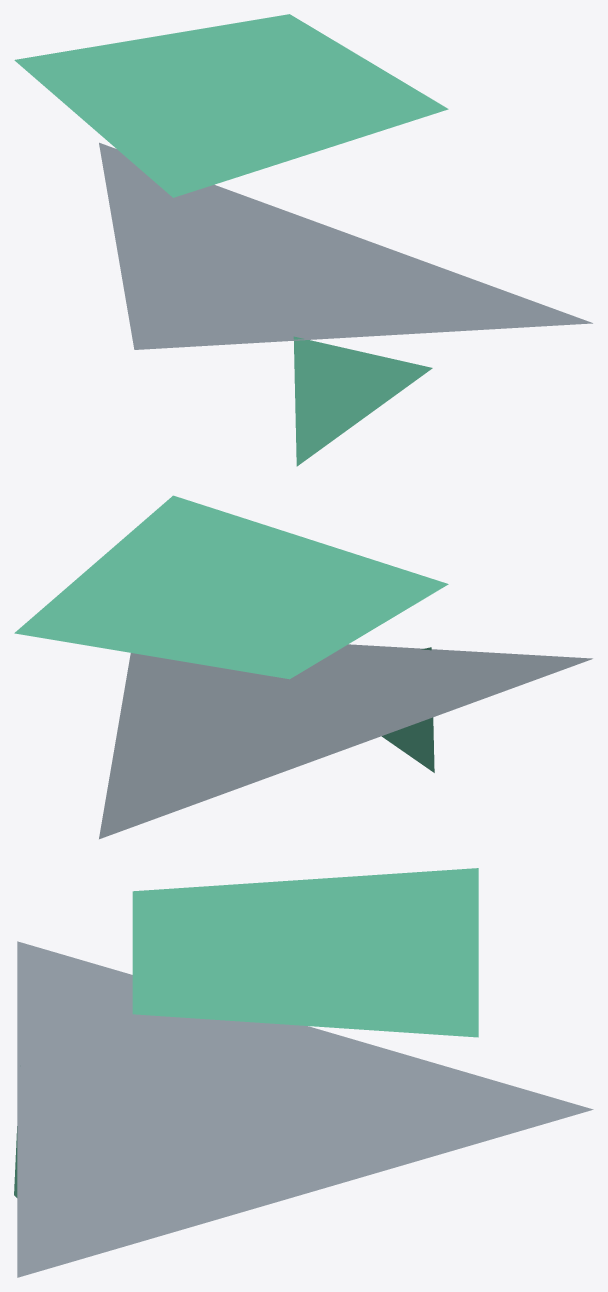
File: CO_Barracks_LOD2.glb
The picture shows the model from 3 angles, top to bottom: view 1: azimuth 30°, elevation 25°; view 2: azimuth 150°, elevation 25°; view 3: azimuth 270°, elevation 25°; orthographic projection. The views are drawn at different scales.
Visible parts, largest first — view 1: EntranceGate; view 2: EntranceGate; view 3: EntranceGate.
Part boxes in pixels (box(x1,y1,x2,y2)): EntranceGate: box(14, 14, 592, 466); EntranceGate: box(14, 495, 592, 839); EntranceGate: box(14, 868, 593, 1277).
Size of the model in its own units: 600 by 333 by 603.
